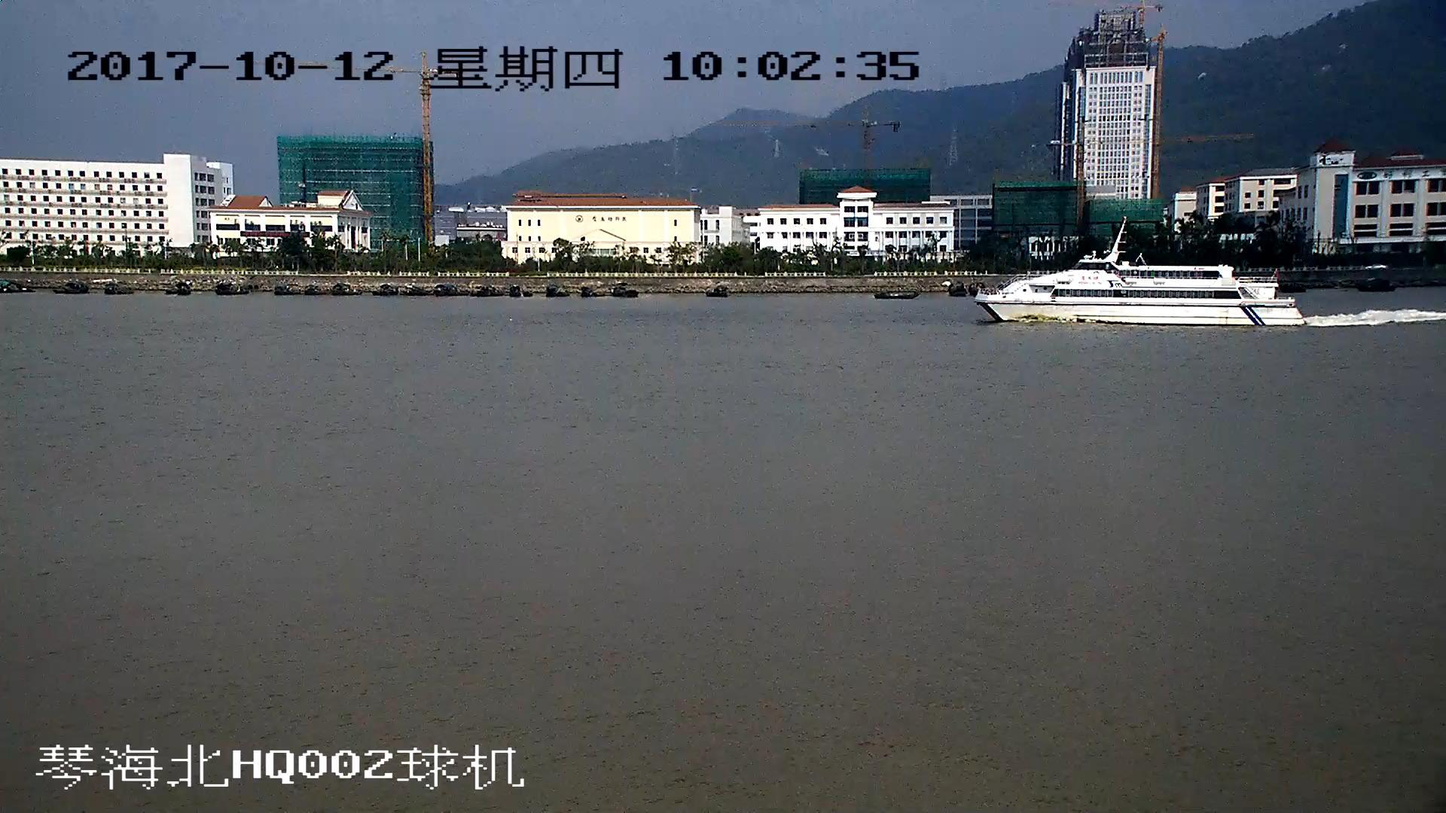passenger ship: (977, 215, 1306, 324)
